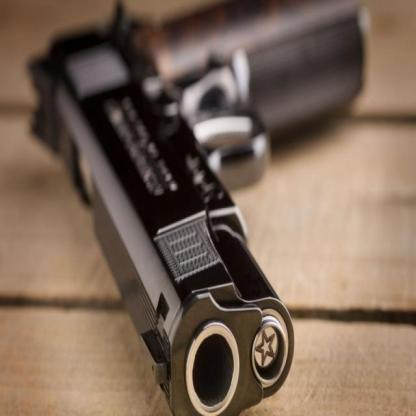handgun: (28, 0, 372, 416)
